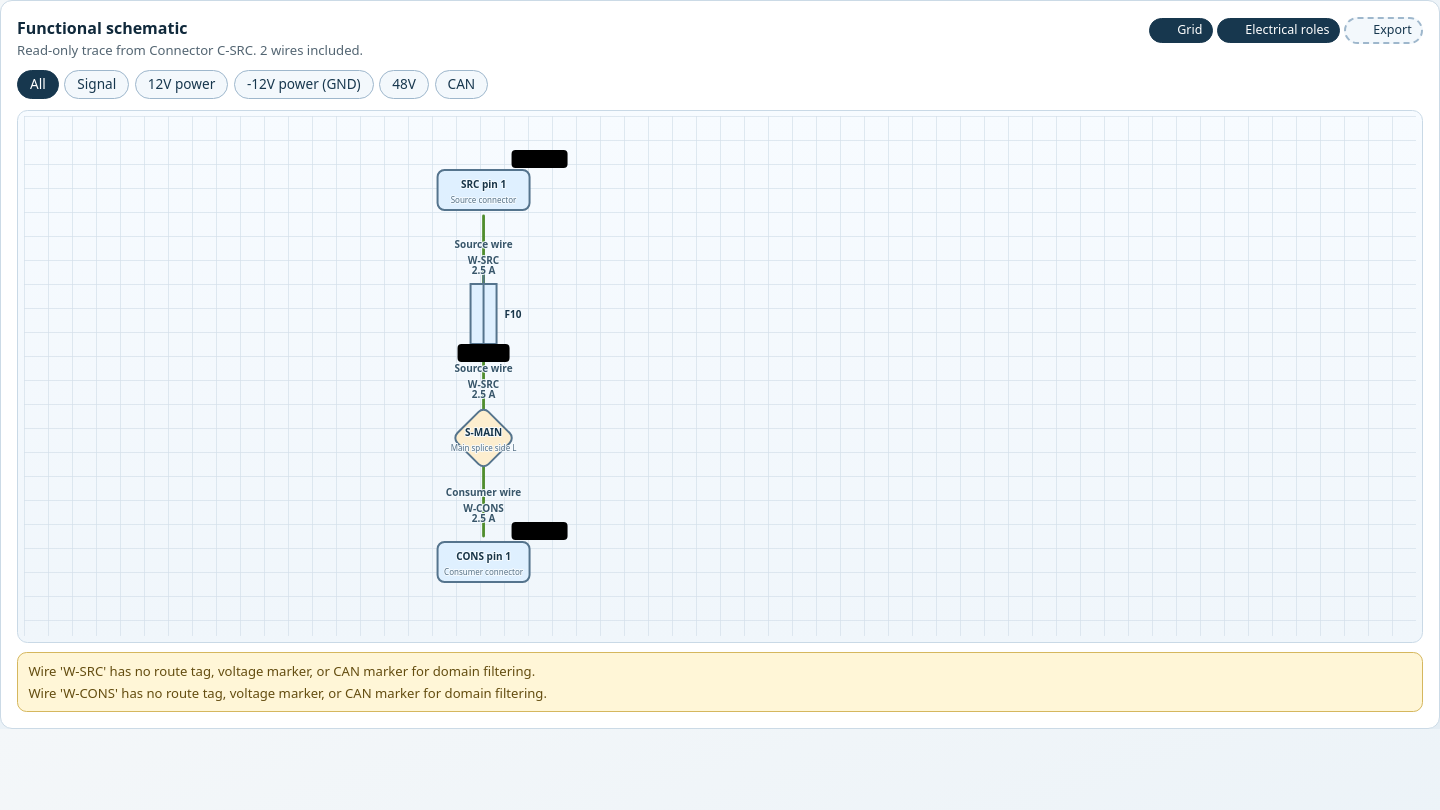
Test case: FunctionalSchematicPanel electrical overlay › shows current-network electrical roles by default and hides them without mutating network data
Expected: the element with class "functional-edge-current-label" is shown, left=471, top=263, right=495, bottom=277
Click the button "Electrical roles" at (1278, 31), box left=1217, top=18, right=1340, bottom=43
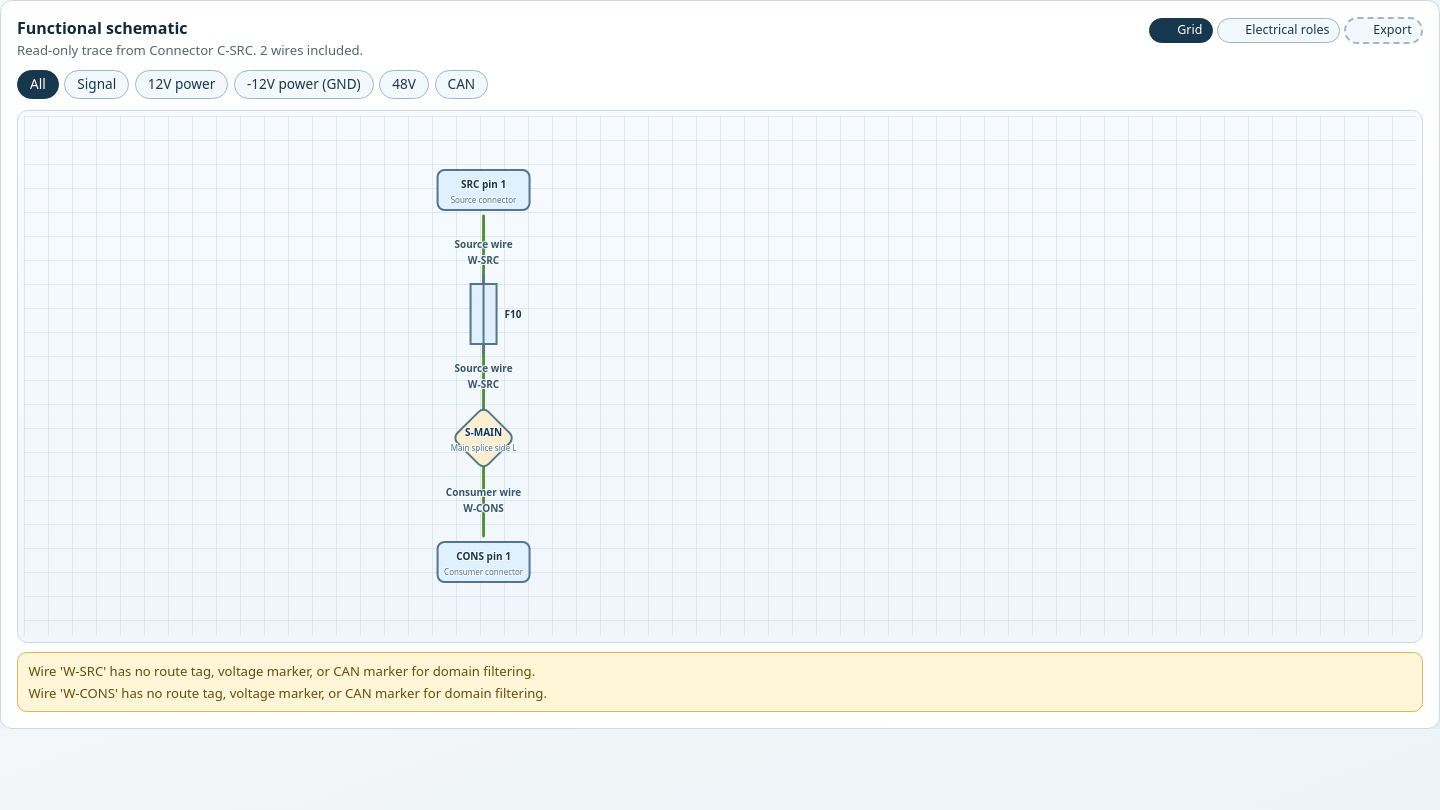
Expected: the element "Functional schematic" no longer shows "→ 2.5 A"
Expected: the element "Functional schematic" no longer shows "← 2.5 A"
